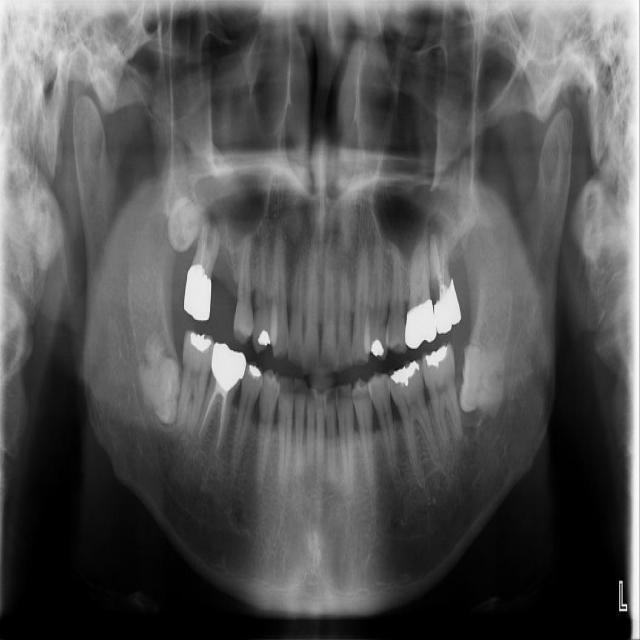Crown: (211, 342, 246, 392), (405, 299, 437, 349), (184, 269, 211, 322), (434, 293, 461, 334)
Filling: (389, 361, 420, 391), (425, 345, 447, 368), (188, 333, 211, 352), (371, 335, 389, 357), (257, 326, 274, 348), (249, 364, 264, 380)
Missing teeth: (209, 247, 239, 328)
Root Canal Treatment: (199, 386, 219, 435), (217, 391, 229, 448), (207, 227, 215, 264), (197, 225, 204, 259), (440, 241, 443, 284), (434, 258, 439, 278), (433, 238, 434, 258)
impacted tooth: (461, 346, 528, 410), (135, 331, 180, 424)
